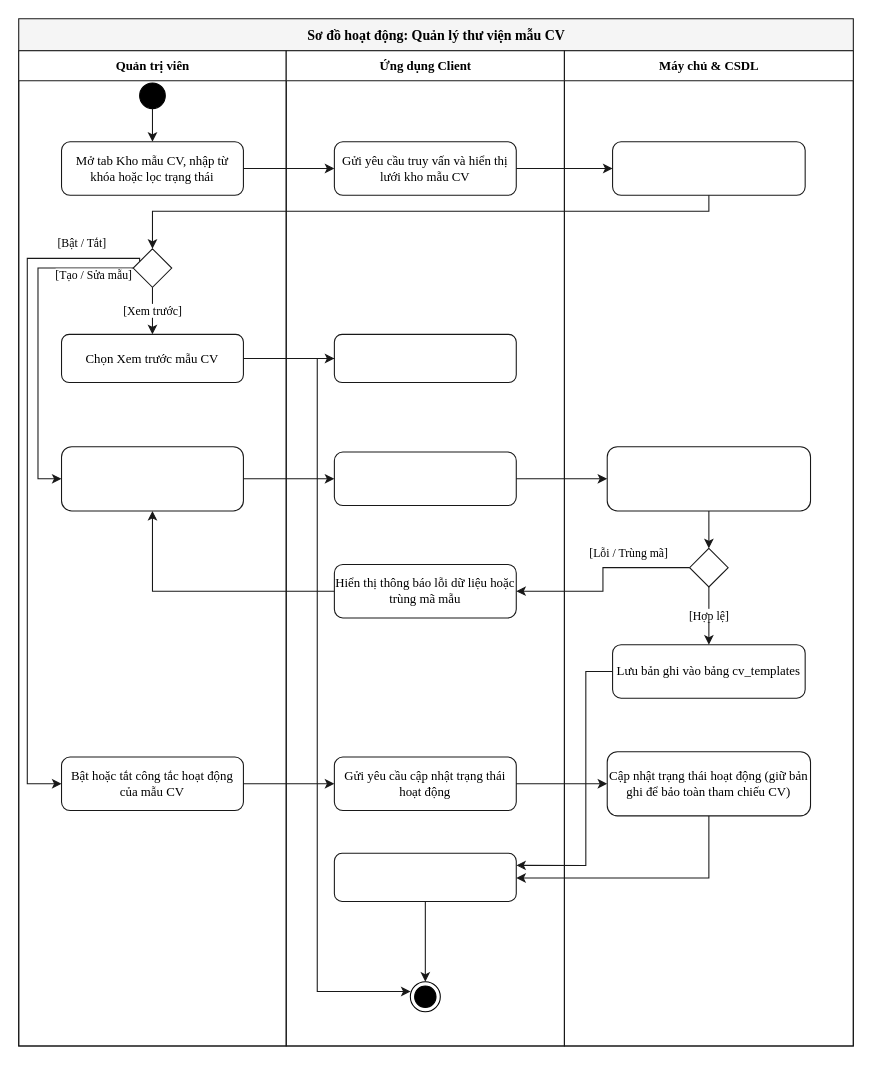
The diagram is 872 pixels wide and 1065 high, and some of its shapes have lost their labels. The shapes that lost their labels are listed below. From the top down, each one's centre as x and y in pixels, then its label:
At point 708,168: "Kiểm tra quyền Admin và truy vấn cv_templates".
At point 424,358: "Mở cửa sổ xem trước mẫu CV".
At point 151,478: "Nhập hoặc sửa tên, mô tả, mã mẫu, ảnh thu nhỏ và cấu hình JSON".
At point 424,478: "Gửi yêu cầu tạo mới hoặc cập nhật mẫu CV".
At point 708,478: "Kiểm tra quyền Admin, mã duy nhất, ảnh thu nhỏ media_files và cấu hình".
At point 424,876: "Cập nhật lại lưới kho mẫu CV".
